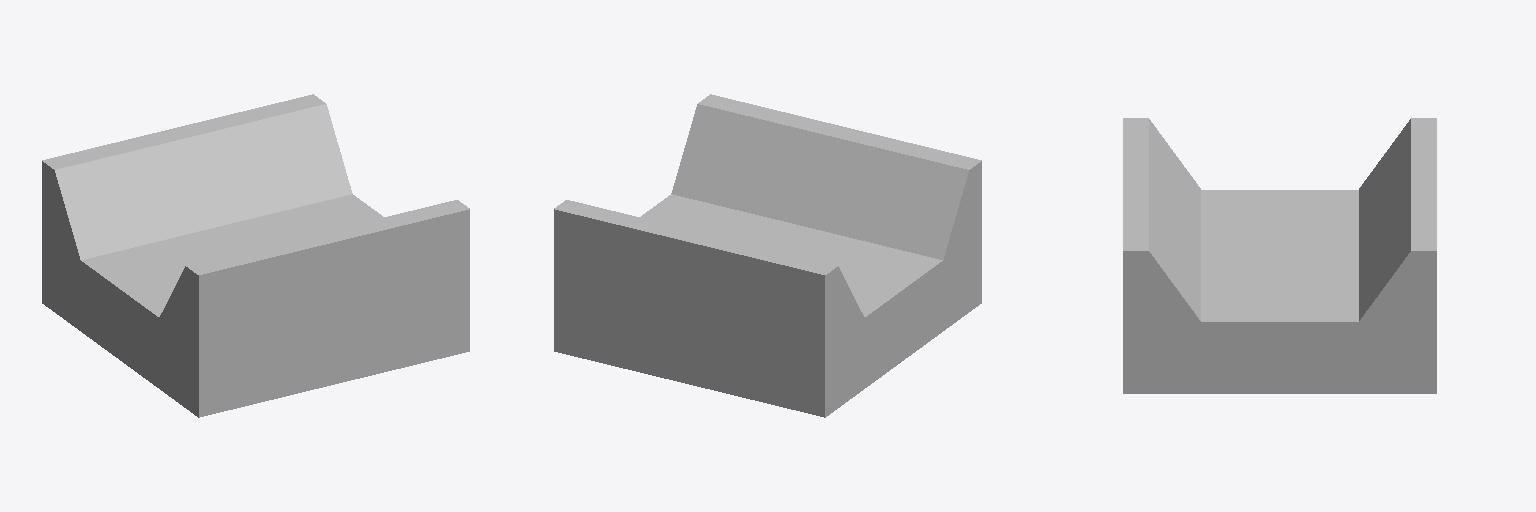
3 renders of one model, left to right at view 1: azimuth 30°, elevation 25°; view 2: azimuth 150°, elevation 25°; view 3: azimuth 270°, elevation 25°, orthographic.
Parts seen in each view (by area): view 1: entity0_brush0, entity0_brush1, entity0_brush2; view 2: entity0_brush0, entity0_brush2, entity0_brush1; view 3: entity0_brush0, entity0_brush1, entity0_brush2.
Part boxes in pixels (left/top/right/bottom): entity0_brush0: left=42, top=194, right=469, bottom=417; entity0_brush1: left=42, top=94, right=352, bottom=259; entity0_brush2: left=159, top=200, right=469, bottom=346; entity0_brush0: left=554, top=194, right=981, bottom=417; entity0_brush2: left=671, top=94, right=981, bottom=259; entity0_brush1: left=554, top=200, right=864, bottom=346; entity0_brush0: left=1123, top=190, right=1436, bottom=393; entity0_brush1: left=1359, top=118, right=1436, bottom=321; entity0_brush2: left=1123, top=118, right=1200, bottom=321.
Size of the model in its own units: 12 by 6 by 12.